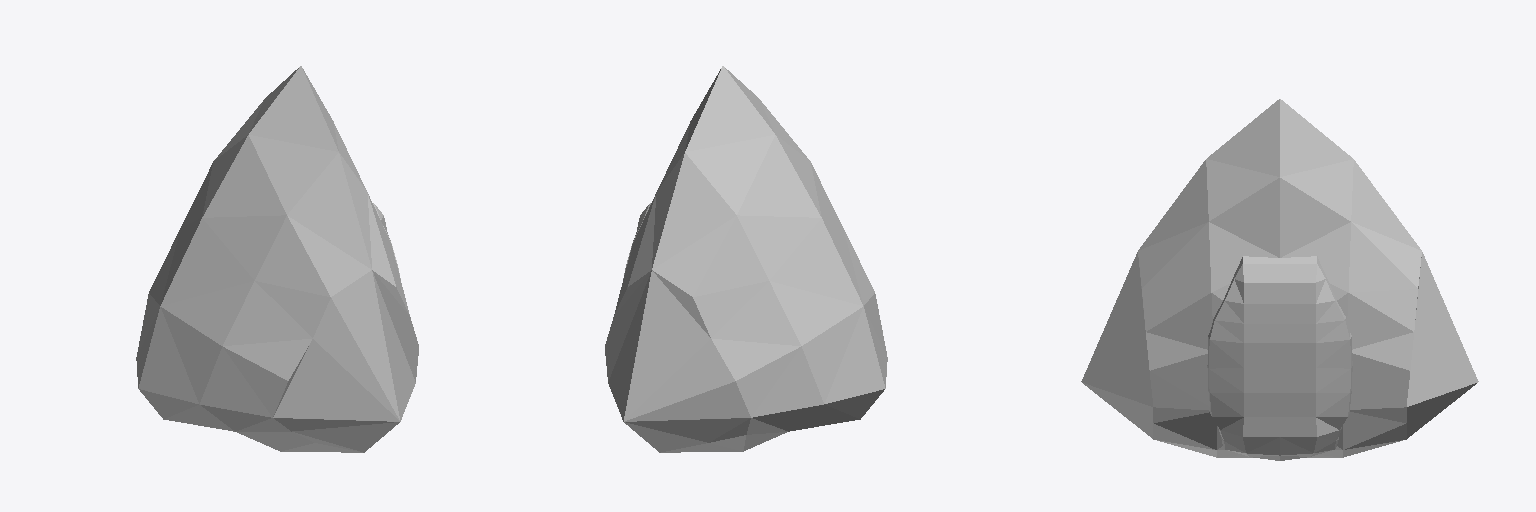
Rendered from Peridot cabeza.obj.
3 renders of one model, left to right at view 1: azimuth 30°, elevation 25°; view 2: azimuth 150°, elevation 25°; view 3: azimuth 270°, elevation 25°, orthographic.
Parts seen in each view (by area): view 1: Cabello; view 2: Cabello; view 3: Cabello, Cara.
Part boxes in pixels (bbox=[...]): Cabello: bbox=[136, 66, 418, 452]; Cabello: bbox=[605, 66, 887, 452]; Cabello: bbox=[1081, 99, 1478, 457]; Cara: bbox=[1207, 256, 1352, 460].
Size of the model in its own units: 2.85 by 4.16 by 4.18.